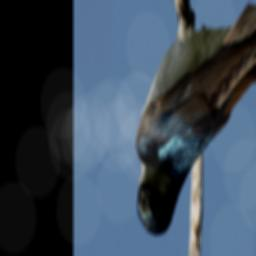Swallow: (135, 0, 256, 235)
